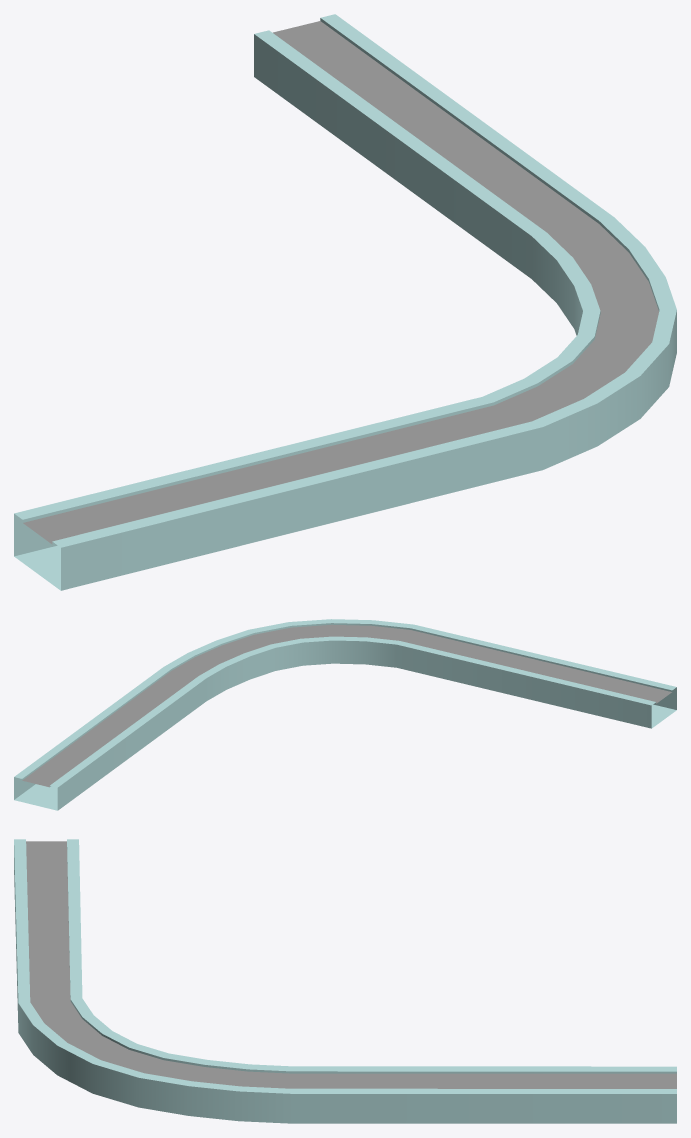
The model's file is right.fbx.
The picture shows the model from 3 angles, top to bottom: view 1: azimuth 30°, elevation 25°; view 2: azimuth 150°, elevation 25°; view 3: azimuth 270°, elevation 25°; orthographic projection. The views are drawn at different scales.
Visible parts, largest first — view 1: right; view 2: right; view 3: right.
Part boxes in pixels (x1,y1,x2,y2): right: (14, 14, 676, 590); right: (14, 619, 676, 810); right: (14, 839, 676, 1123).
Size of the model in its own units: 1883 by 104 by 2072.
